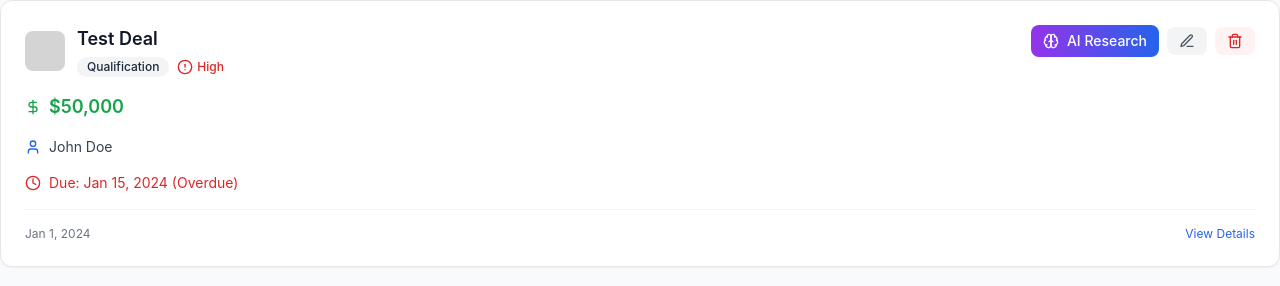
Test: DealCard Component › Edit Mode › enters edit mode when edit button is clicked
Click the button named "edit deal test company": (1187, 41) [1167,27,1207,55]
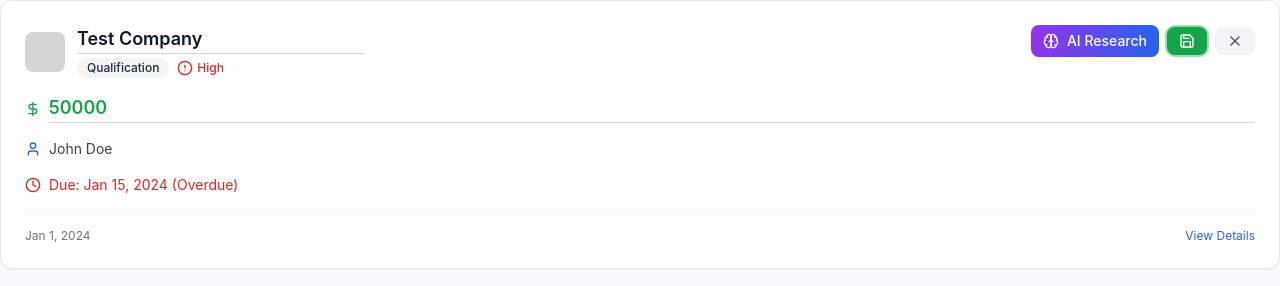
Expected: the field showing "Test Company" is shown, [77,25,365,54]
Expected: the number field showing "50000" is shown, [49,94,1255,123]
